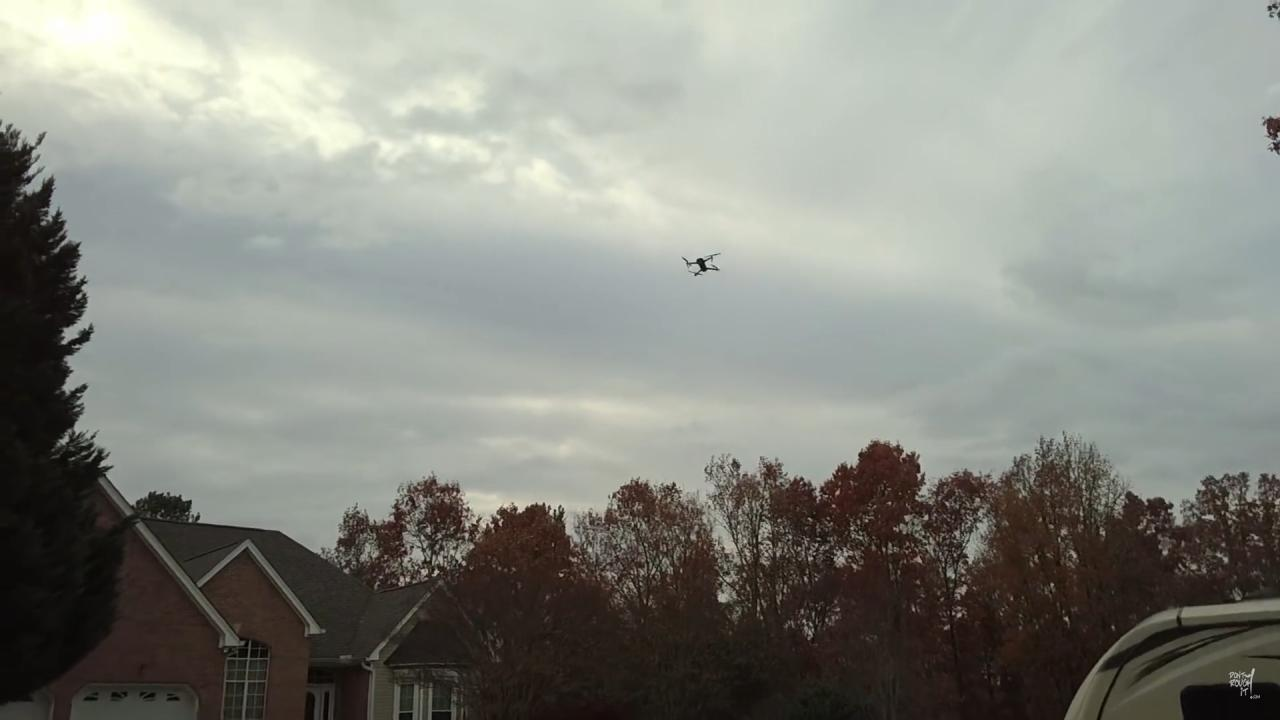Drone: (672, 243, 730, 284)
